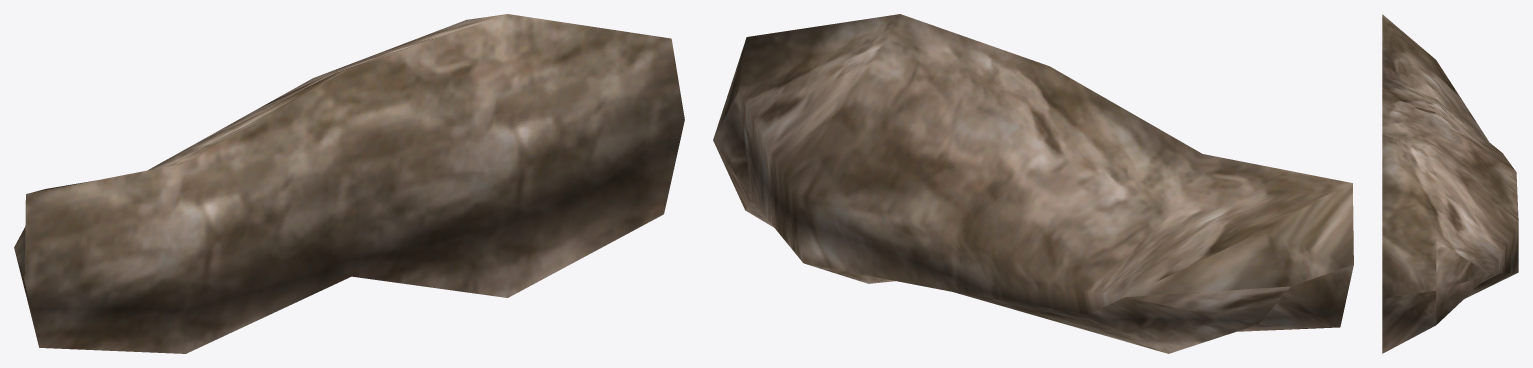
File: INST_OH_ROCK_05.fbx
3 views of the same model, side by side, from view 1: azimuth 30°, elevation 25°; view 2: azimuth 150°, elevation 25°; view 3: azimuth 270°, elevation 25° (orthographic). The views are drawn at different scales.
Visible parts, largest first — view 1: INST_OH_ROCK_05; view 2: INST_OH_ROCK_05; view 3: INST_OH_ROCK_05.
Boxes of the visible parts, bbox=[...] form: INST_OH_ROCK_05: bbox=[14, 14, 684, 353]; INST_OH_ROCK_05: bbox=[713, 14, 1353, 353]; INST_OH_ROCK_05: bbox=[1382, 14, 1518, 353].
Size of the model in its own units: 12296 by 5056 by 3158.
1 material, 1 textured.
